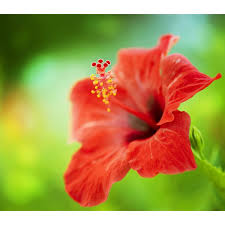hybiscus: (65, 33, 222, 206)
